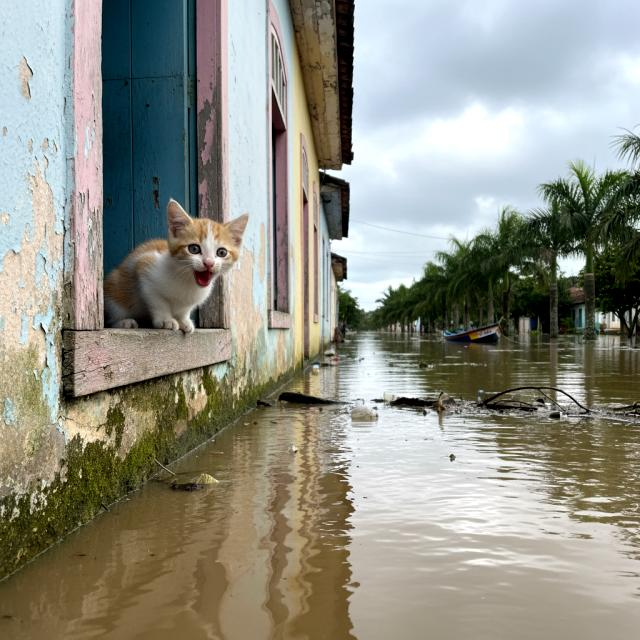cat: (98, 198, 253, 340)
